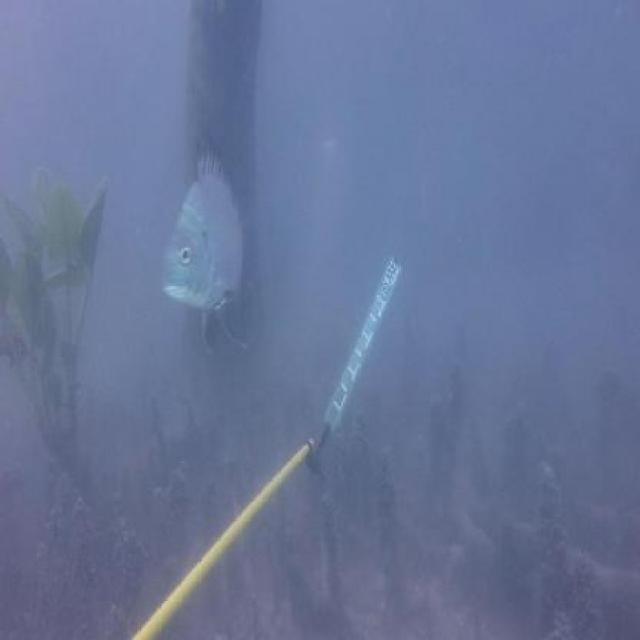acanthopagrus_palmaris: (158, 142, 271, 356)
